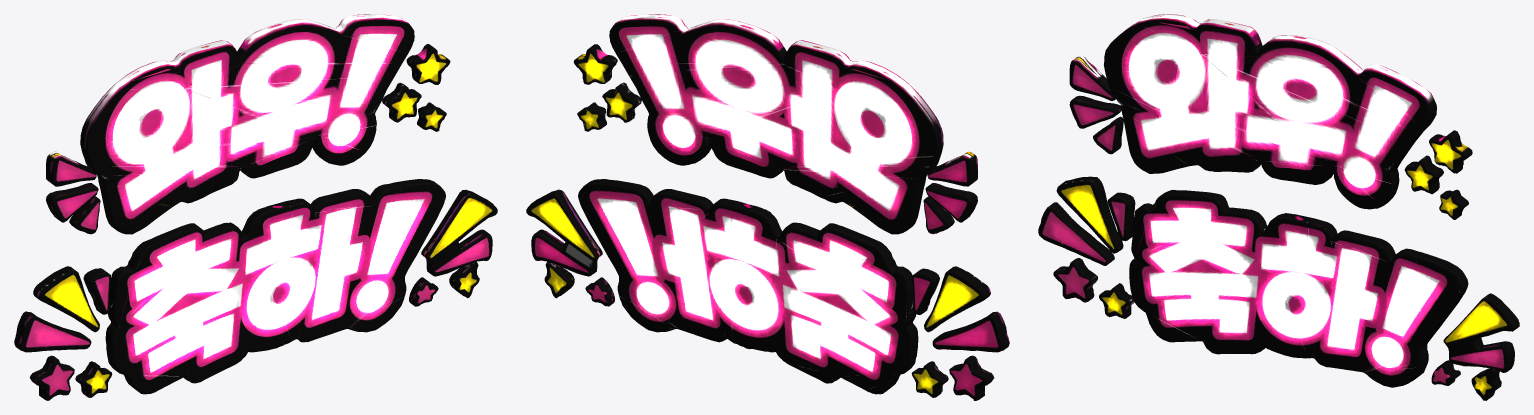
Rendered from text-congraturation-ani.glb.
3 views of the same model, side by side, from view 1: azimuth 30°, elevation 25°; view 2: azimuth 150°, elevation 25°; view 3: azimuth 330°, elevation 25° (orthographic).
Visible parts, largest first — view 1: Mesh_0.001; view 2: Mesh_0.001; view 3: Mesh_0.001.
Part boxes in pixels (x1,y1,x2,y2): Mesh_0.001: (14, 14, 497, 400); Mesh_0.001: (526, 14, 1009, 400); Mesh_0.001: (1038, 14, 1519, 400).
Bounding box in the file's own units: 1.91 × 1.28 × 0.0509.
1 material, 1 textured.
